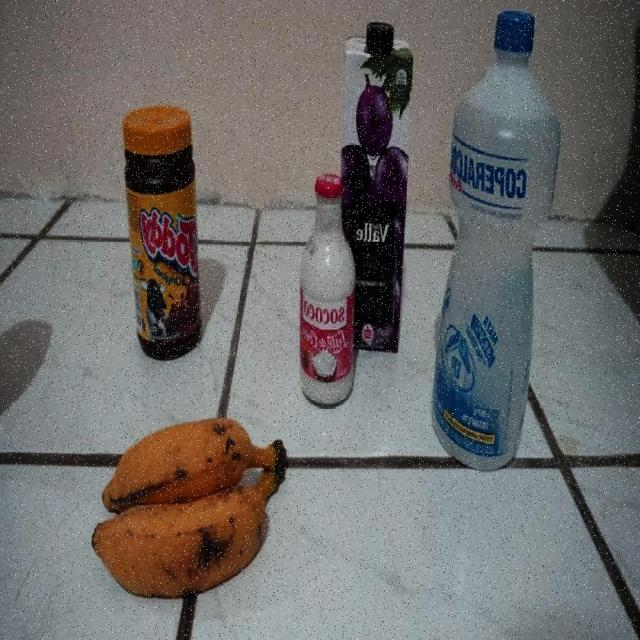AlcoholBottle: (429, 9, 564, 474)
Banana: (90, 418, 290, 604)
ChocolatePowder: (120, 104, 204, 358)
CoconutMilk: (296, 171, 358, 411)
